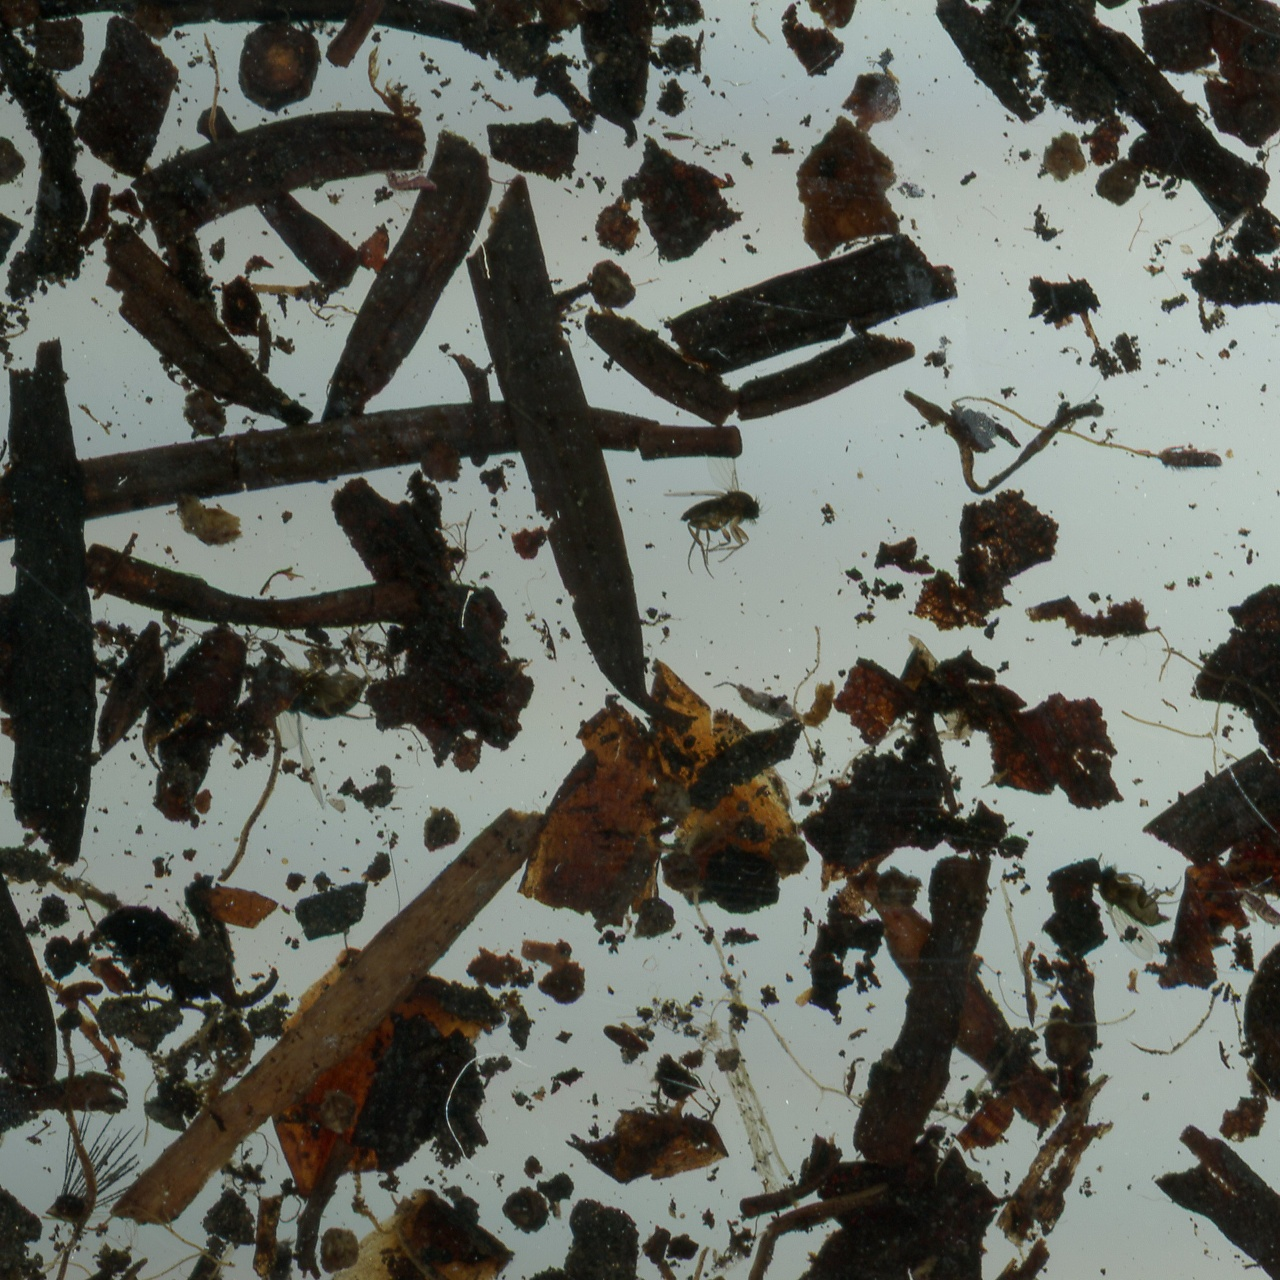arthropod: (253, 648, 376, 811), (661, 456, 763, 579), (1099, 846, 1173, 962), (713, 679, 804, 724), (1231, 887, 1280, 932), (1155, 447, 1224, 474), (381, 168, 437, 193)
